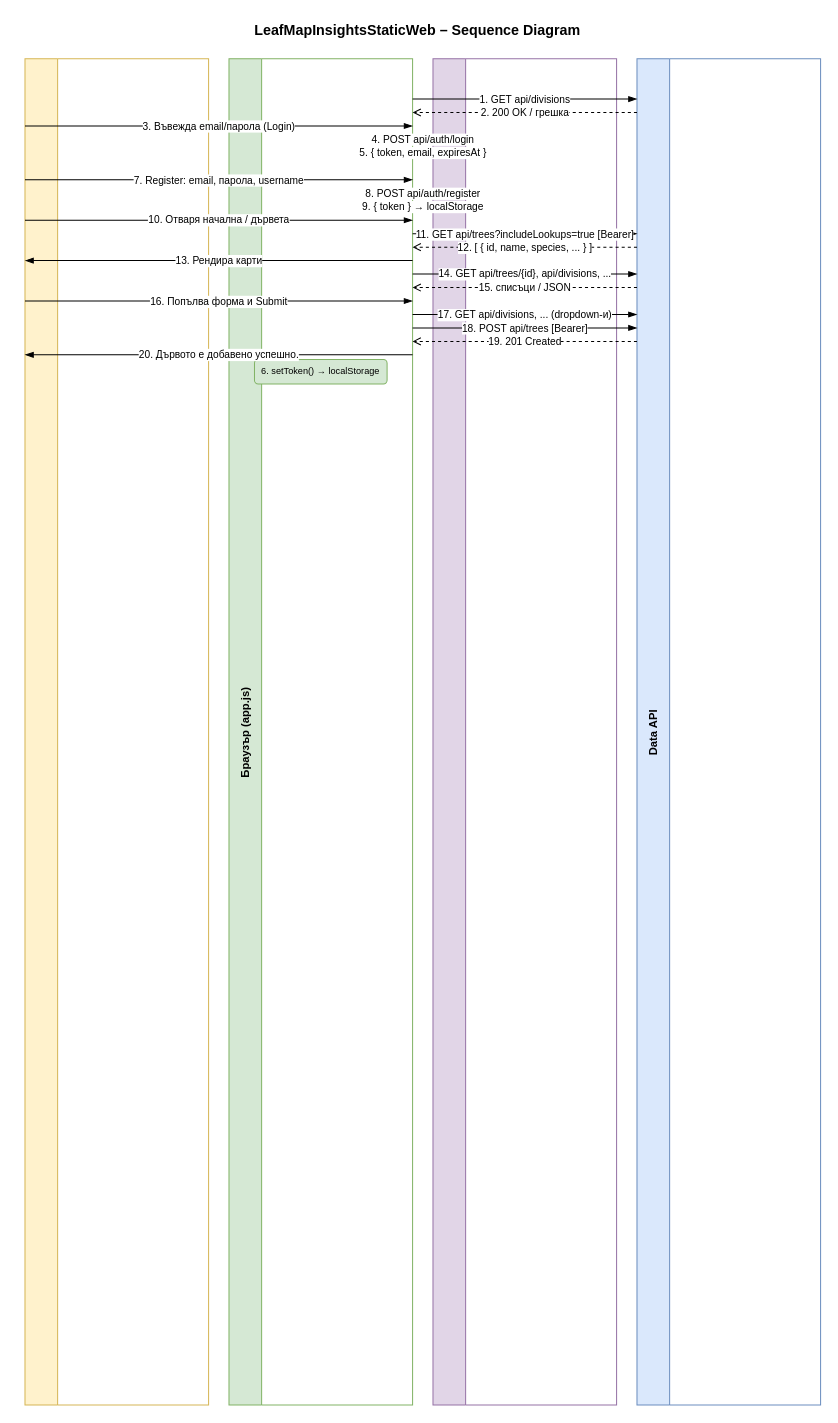
The diagram is 838 pixels wide and 1423 high, and some of its shapes have lost their labels. The box of each missing label's shape, as (x1, y1, x2, y2) in pixels:
Auth API: (432, 58, 617, 1405)
Потребител: (24, 58, 209, 1405)
